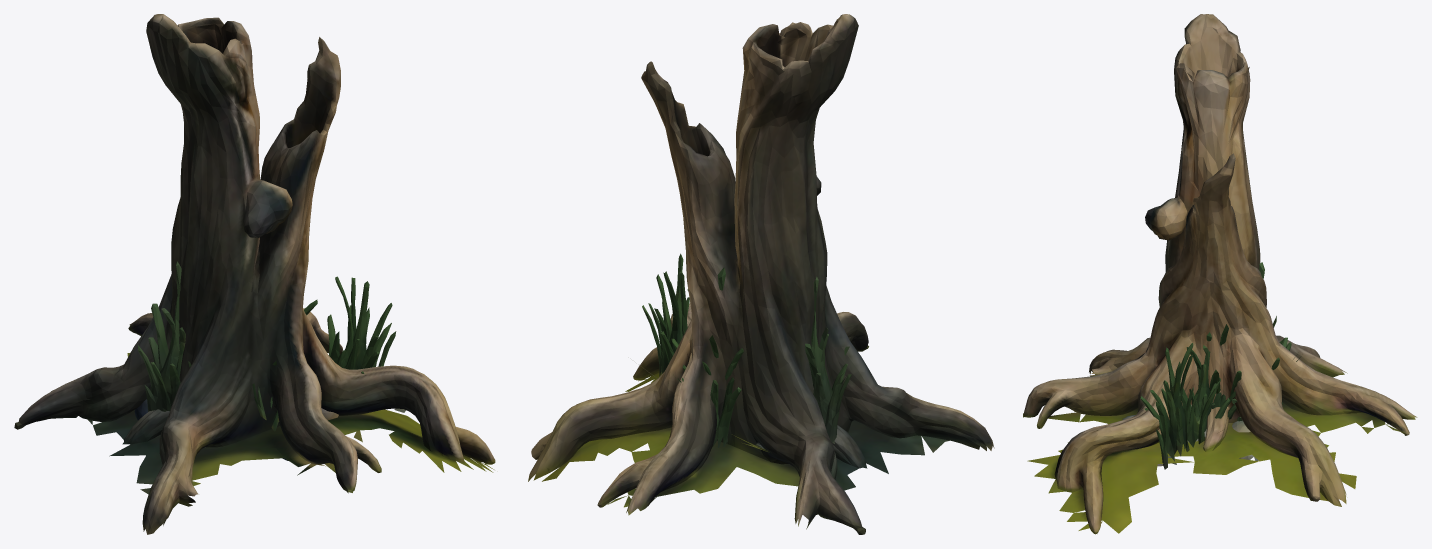
Rendered from kit_terrain3.glb.
The picture shows the model from 3 angles, left to right: view 1: azimuth 30°, elevation 25°; view 2: azimuth 150°, elevation 25°; view 3: azimuth 270°, elevation 25°; orthographic projection. The views are drawn at different scales.
Visible parts, largest first — view 1: oak_0, plant_1, plant_7; view 2: oak_0, plant_1, plant_7, plant_6; view 3: oak_0, plant_1, plant_6.
Boxes of the visible parts, box(x1,y1,x2,y2) form: oak_0: box(14, 14, 495, 534); plant_1: box(134, 276, 405, 455); plant_7: box(138, 261, 338, 420); oak_0: box(528, 14, 994, 534); plant_1: box(639, 253, 768, 451); plant_7: box(805, 276, 851, 443); plant_6: box(671, 267, 743, 447); oak_0: box(1023, 14, 1417, 534); plant_1: box(1140, 343, 1236, 469); plant_6: box(1122, 262, 1300, 419).
Bounding box in the file's own units: 26.07 × 33.16 × 29.05.
1 material, 1 textured.
